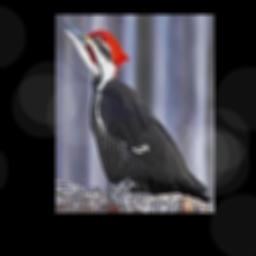Woodpecker: (60, 22, 212, 202)
